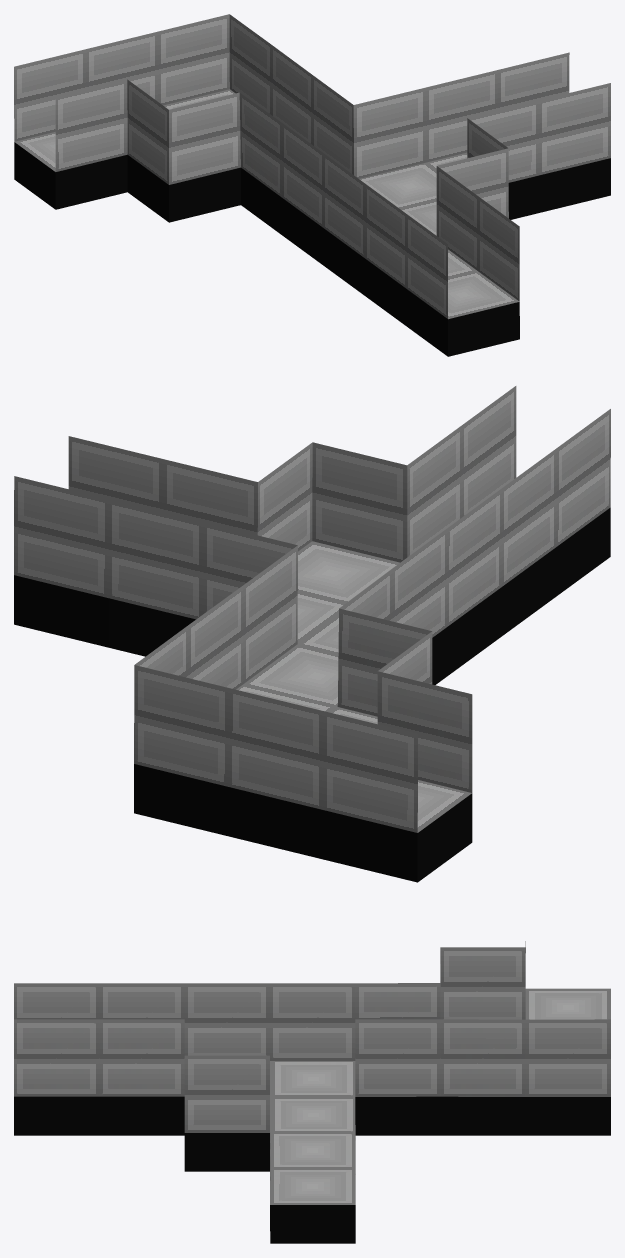
Rendered from LongPath2Exit.gltf.
The picture shows the model from 3 angles, top to bottom: view 1: azimuth 30°, elevation 25°; view 2: azimuth 150°, elevation 25°; view 3: azimuth 270°, elevation 25°; orthographic projection. The views are drawn at different scales.
Parts seen in each view (by area): view 1: LongPath2Exit; view 2: LongPath2Exit; view 3: LongPath2Exit.
Boxes of the visible parts, x1,y1,x2,y2 form: LongPath2Exit: [14, 14, 610, 356]; LongPath2Exit: [14, 386, 610, 882]; LongPath2Exit: [14, 941, 610, 1243].
Size of the model in its own units: 12 by 3 by 13.99.
2 materials, 1 textured.
